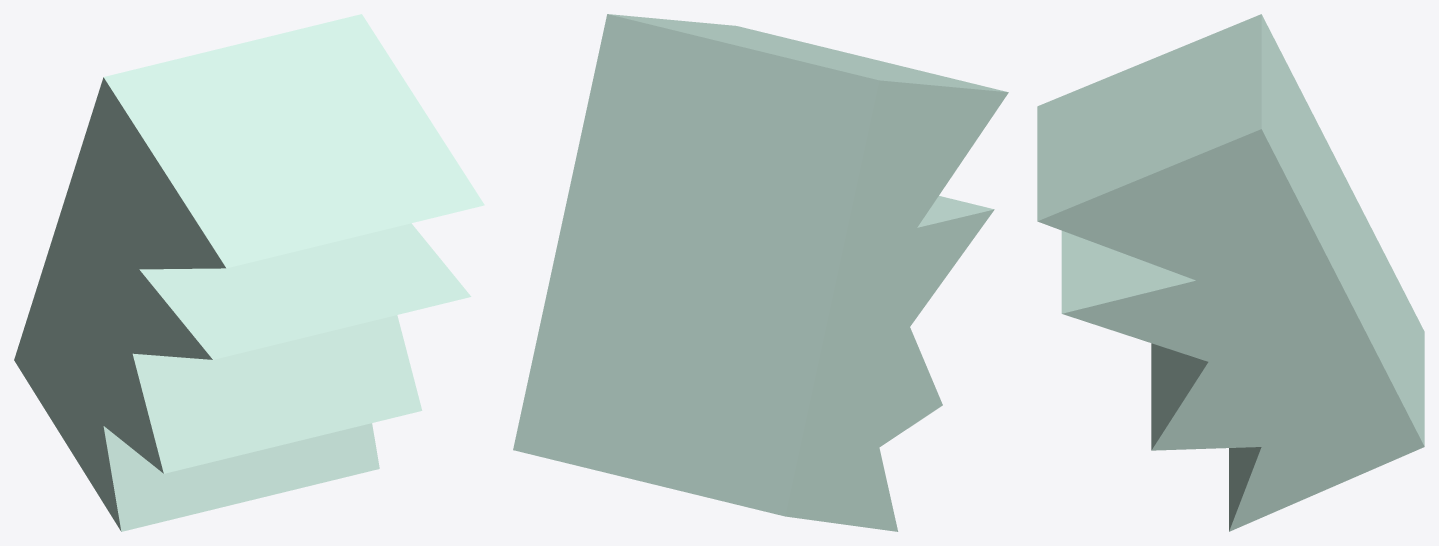
3 renders of one model, left to right at view 1: azimuth 30°, elevation 25°; view 2: azimuth 150°, elevation 25°; view 3: azimuth 270°, elevation 25°, orthographic. The views are drawn at different scales.
Visible parts, largest first — view 1: Renderer Node; view 2: Renderer Node; view 3: Renderer Node.
Boxes of the visible parts, box(x1,y1,x2,y2) form: Renderer Node: box(14, 14, 484, 531); Renderer Node: box(513, 14, 1008, 531); Renderer Node: box(1037, 14, 1424, 531).
Bounding box in the file's own units: 0.4609 × 0.753 × 0.6563.
